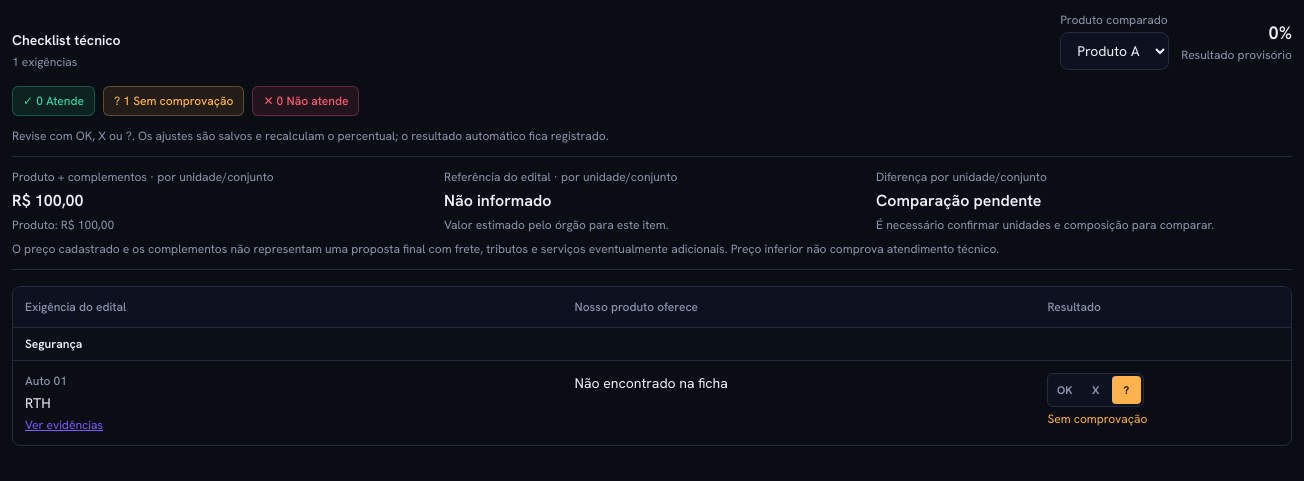
Test: the pre-import checklist reports chosen product and manual changes without overwriting the automatic assessment
Select "Produto B" in the dropdown labelled "Produto comparado": (1115, 51) [1060, 32, 1169, 70]
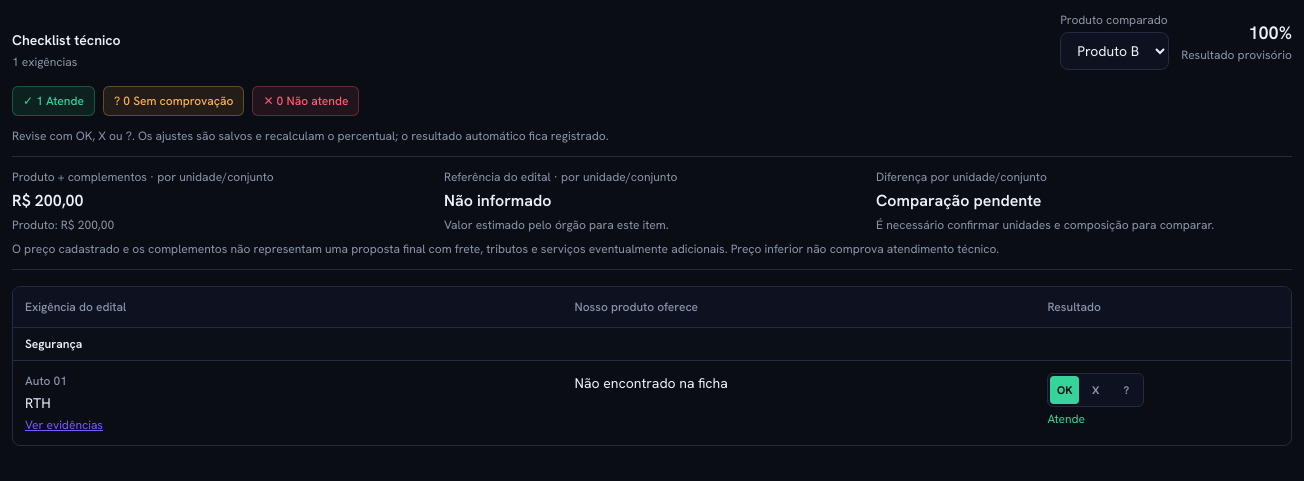
Click the button named "Verificar": (1126, 390) [1112, 376, 1141, 404]
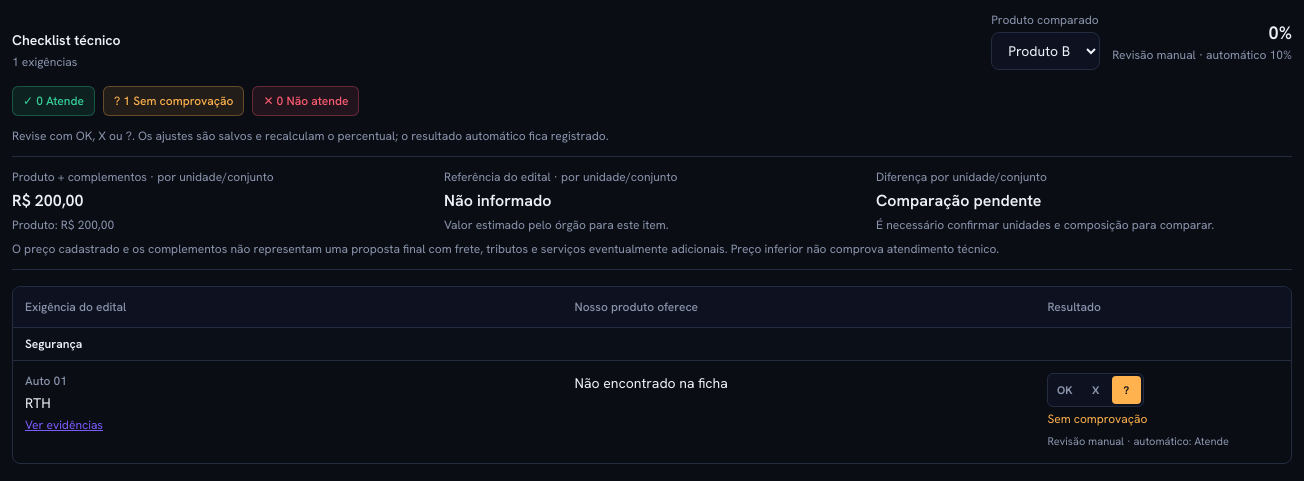
Expected: the text "Revisão manual · automático: Atende" is shown, [1047, 434, 1229, 448]
